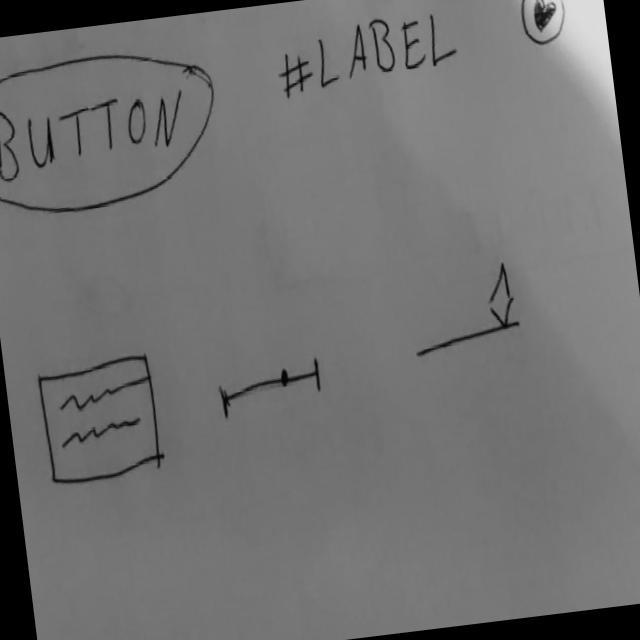button: (1, 36, 229, 225)
icon-button: (515, 1, 572, 51)
label: (272, 5, 466, 107)
number-input: (402, 256, 528, 365)
slider: (215, 352, 329, 425)
textarea: (34, 352, 167, 492)
